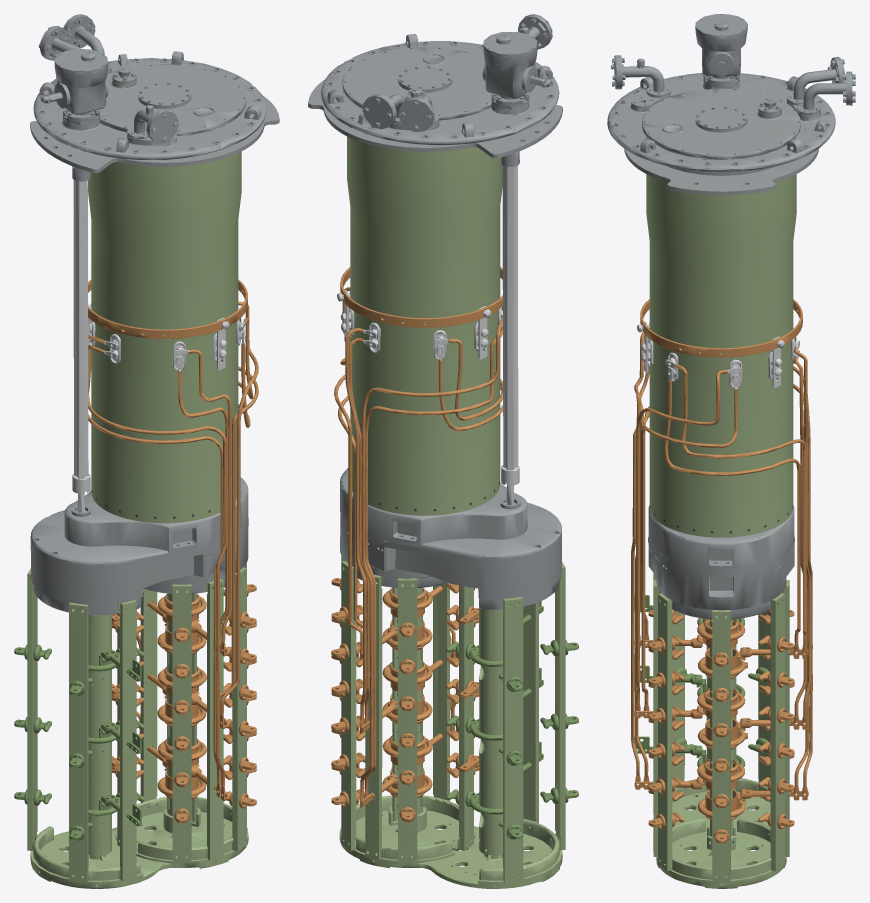
File: sdzv.glb
3 views of the same model, side by side, from view 1: azimuth 30°, elevation 25°; view 2: azimuth 150°, elevation 25°; view 3: azimuth 270°, elevation 25° (orthographic). The views are drawn at different scales.
Visible parts, largest first — view 1: comp, sel-frame, mid-box, sel-leads, head, cover, sel-moving, ext-shaft, sel-fixed, cos, ugear, flange (+6 smaller); view 2: comp, sel-frame, mid-box, sel-leads, cover, head, sel-fixed, ext-shaft, sel-moving, ugear, cos, flange (+6 smaller); view 3: comp, sel-frame, sel-leads, mid-box, cover, head, sel-moving, sel-fixed, flange, ugear, takeoff, cos (+4 smaller).
Part boxes in pixels (left/top/right/bottom): comp: left=88, top=151, right=241, bottom=523; sel-frame: left=27, top=562, right=248, bottom=888; mid-box: left=30, top=477, right=248, bottom=615; sel-leads: left=88, top=301, right=258, bottom=757; head: left=33, top=51, right=266, bottom=159; cover: left=99, top=64, right=245, bottom=135; sel-moving: left=136, top=594, right=240, bottom=800; ext-shaft: left=72, top=180, right=90, bottom=512; sel-fixed: left=112, top=584, right=256, bottom=823; cos: left=14, top=608, right=144, bottom=850; ugear: left=41, top=49, right=108, bottom=181; flange: left=30, top=96, right=279, bottom=172; comp: left=347, top=136, right=502, bottom=515; sel-frame: left=339, top=556, right=565, bottom=888; mid-box: left=340, top=468, right=561, bottom=609; sel-leads: left=334, top=287, right=502, bottom=765; cover: left=342, top=47, right=491, bottom=120; head: left=321, top=34, right=559, bottom=145; sel-fixed: left=331, top=578, right=479, bottom=821; ext-shaft: left=501, top=165, right=519, bottom=504; sel-moving: left=348, top=586, right=455, bottom=807; ugear: left=482, top=32, right=551, bottom=166; cos: left=446, top=601, right=578, bottom=849; flange: left=308, top=79, right=562, bottom=158; comp: left=646, top=174, right=796, bottom=537; sel-frame: left=653, top=573, right=789, bottom=888; sel-leads: left=631, top=332, right=812, bottom=749; mid-box: left=648, top=505, right=794, bottom=619; cover: left=642, top=88, right=800, bottom=159; head: left=607, top=73, right=835, bottom=175; sel-moving: left=631, top=607, right=812, bottom=820; sel-fixed: left=648, top=609, right=794, bottom=843; flange: left=624, top=148, right=818, bottom=195; ugear: left=695, top=14, right=747, bottom=88; takeoff: left=640, top=299, right=802, bottom=357; cos: left=634, top=595, right=767, bottom=782.
Bounding box in the file's own units: 0.8465 × 2.91 × 0.8268.
